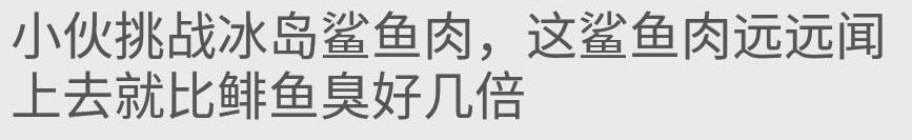TextView: (1, 1, 911, 139)
